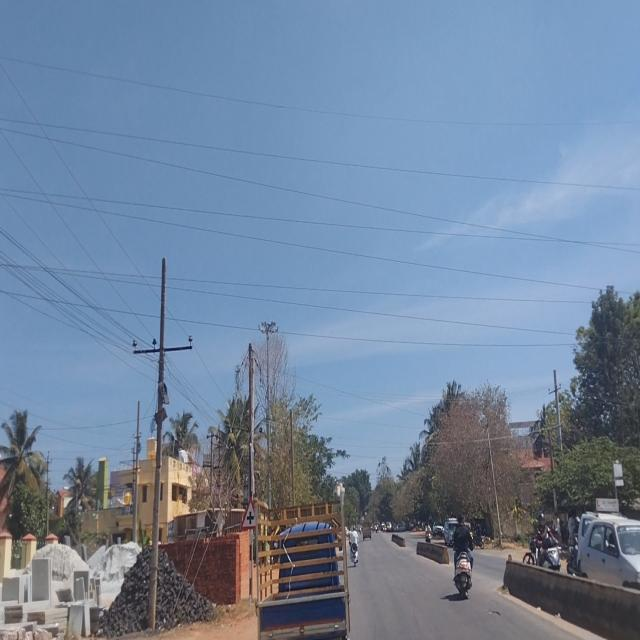bien_cam: (240, 495, 256, 533)
